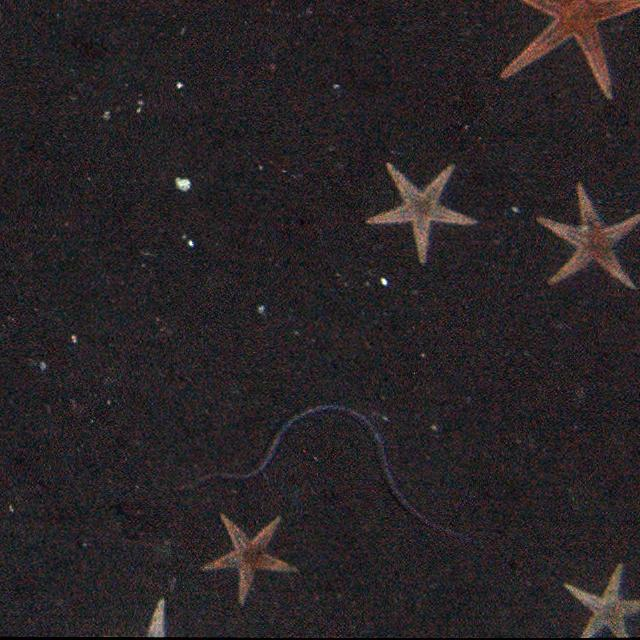eel: (193, 404, 476, 548)
